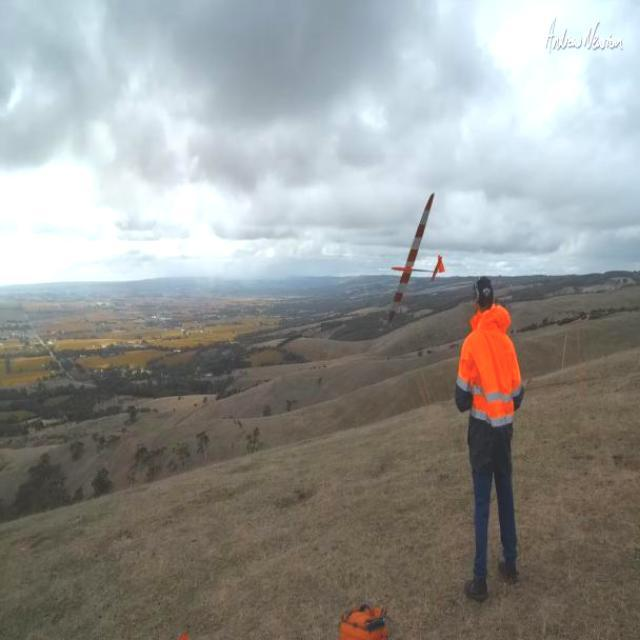iha: (385, 185, 448, 329)
